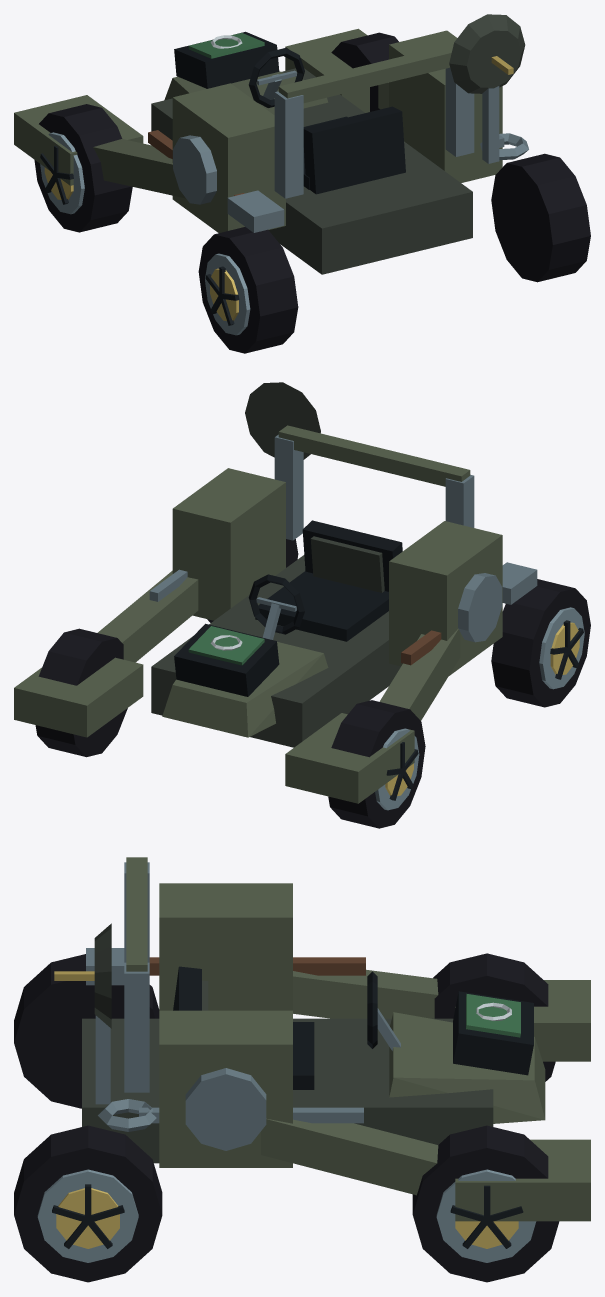
File: kart.glb
The picture shows the model from 3 angles, top to bottom: view 1: azimuth 30°, elevation 25°; view 2: azimuth 150°, elevation 25°; view 3: azimuth 270°, elevation 25°; orthographic projection. The views are drawn at different scales.
Visible parts, largest first — view 1: identity-mech-mech-articulated-limbs-and-open-harness, wheel-rear-right, wheel-rear-left, identity-mech-driver-cockpit, wheel-front-left, identity-mech-motif-radar, identity-mech-motif-scanner, identity-mech-motif-tools, wheel-front-right; view 2: identity-mech-mech-articulated-limbs-and-open-harness, identity-mech-driver-cockpit, wheel-rear-left, wheel-front-left, identity-mech-motif-scanner, wheel-front-right, identity-mech-motif-radar, identity-mech-motif-tools; view 3: identity-mech-mech-articulated-limbs-and-open-harness, wheel-rear-right, wheel-front-right, wheel-rear-left, identity-mech-motif-scanner, identity-mech-motif-tools, wheel-front-left, identity-mech-driver-cockpit, identity-mech-motif-radar.
Part boxes in pixels (box(x1,y1,x2,y2)): identity-mech-mech-articulated-limbs-and-open-harness: box(14, 28, 502, 274); wheel-rear-right: box(491, 153, 590, 282); wheel-rear-left: box(198, 227, 298, 353); identity-mech-driver-cockpit: box(248, 48, 405, 194); wheel-front-left: box(34, 104, 132, 232); identity-mech-motif-radar: box(449, 14, 525, 163); identity-mech-motif-scanner: box(174, 31, 279, 88); identity-mech-motif-tools: box(148, 130, 528, 232); wheel-front-right: box(331, 32, 398, 111); identity-mech-mech-articulated-limbs-and-open-harness: box(14, 425, 502, 803); identity-mech-driver-cockpit: box(248, 520, 402, 641); wheel-rear-left: box(491, 579, 590, 707); wheel-front-left: box(328, 700, 425, 828); identity-mech-motif-scanner: box(174, 623, 279, 696); wheel-front-right: box(35, 628, 127, 757); identity-mech-motif-radar: box(245, 382, 320, 459); identity-mech-motif-tools: box(149, 562, 537, 665); identity-mech-mech-articulated-limbs-and-open-harness: box(82, 857, 590, 1221); wheel-rear-right: box(14, 1125, 162, 1282); wheel-front-right: box(412, 1125, 559, 1282); wheel-rear-left: box(14, 954, 159, 1108); identity-mech-motif-scanner: box(453, 991, 533, 1075); identity-mech-motif-tools: box(86, 948, 365, 1131); wheel-front-left: box(433, 953, 555, 1081); identity-mech-driver-cockpit: box(173, 966, 400, 1089); identity-mech-motif-radar: box(54, 923, 111, 1104).
Size of the model in its own units: 2.29 by 1.65 by 2.72.
